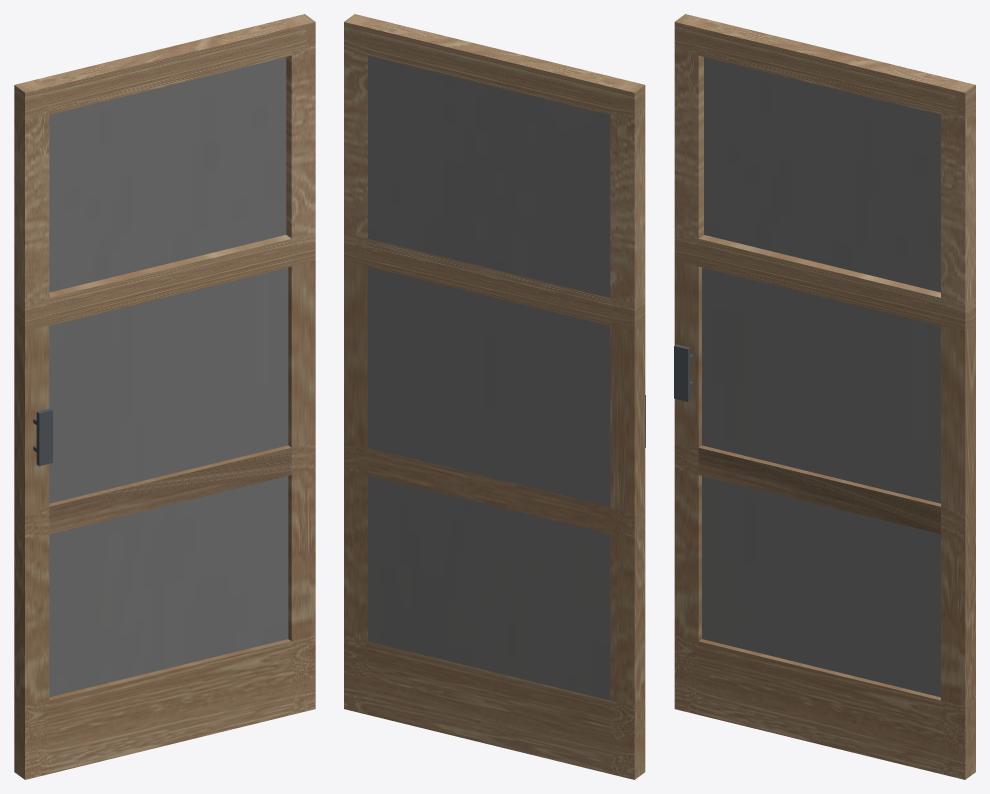
File: DoorsV8.glb
3 renders of one model, left to right at view 1: azimuth 30°, elevation 25°; view 2: azimuth 150°, elevation 25°; view 3: azimuth 330°, elevation 25°, orthographic.
Parts seen in each view (by area): view 1: FrontDoorL.002, KNOB.001; view 2: FrontDoorL.002; view 3: FrontDoorL.002, KNOB.001.
Boxes of the visible parts, left/top/right/bottom form: FrontDoorL.002: left=14, top=14, right=315, bottom=779; KNOB.001: left=33, top=408, right=52, bottom=466; FrontDoorL.002: left=344, top=14, right=645, bottom=779; FrontDoorL.002: left=674, top=14, right=975, bottom=779; KNOB.001: left=674, top=344, right=693, bottom=401.
Size of the model in its own units: 0.9699 by 2.19 by 0.1049.
3 materials, 2 textured.
